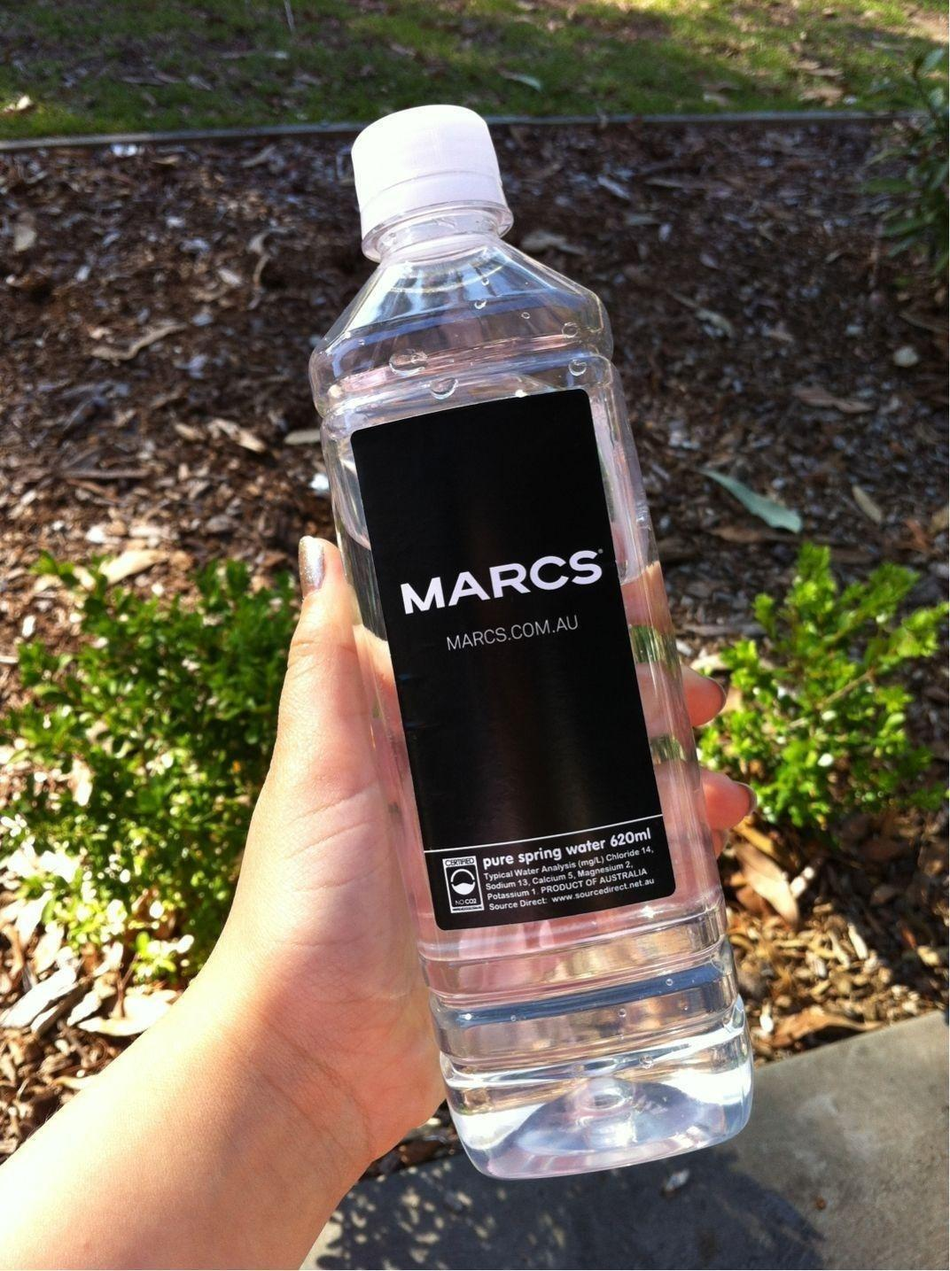bottle-plastic: (307, 96, 757, 1185)
